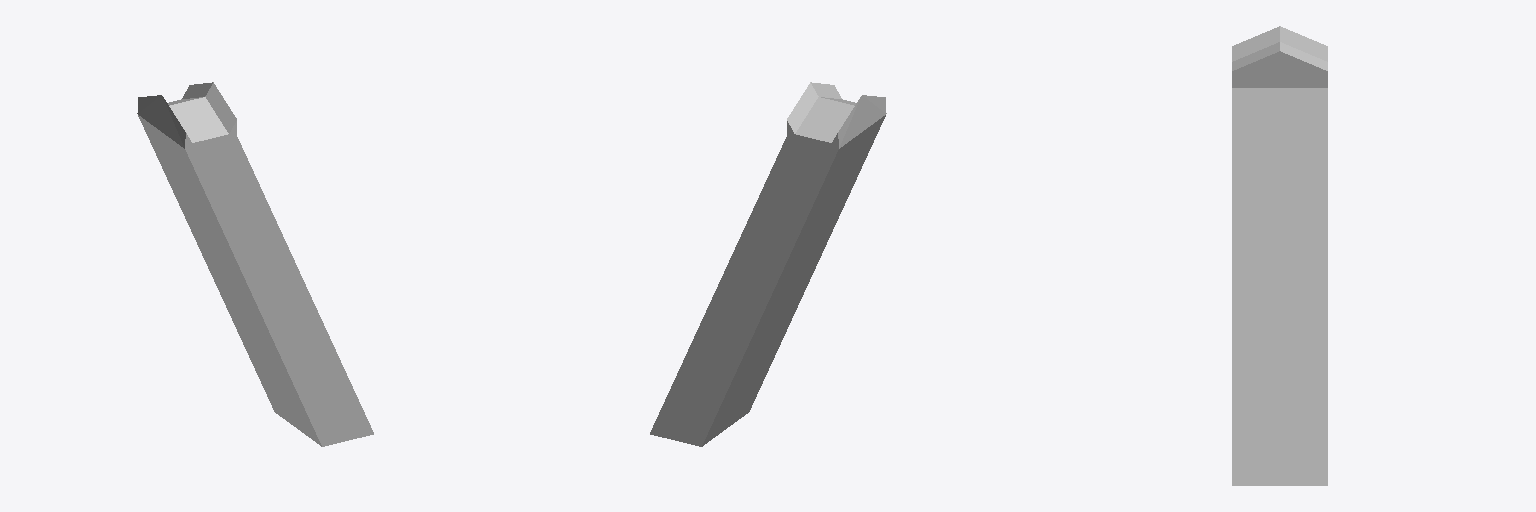
The model's file is HeadPhoneStand.obj.
3 renders of one model, left to right at view 1: azimuth 30°, elevation 25°; view 2: azimuth 150°, elevation 25°; view 3: azimuth 270°, elevation 25°, orthographic.
Visible parts, largest first — view 1: pCube46; view 2: pCube46; view 3: pCube46.
Boxes of the visible parts, x1,y1,x2,y2 form: pCube46: [137, 82, 373, 446]; pCube46: [650, 82, 886, 446]; pCube46: [1232, 26, 1327, 485].
Size of the model in its own units: 230 by 427 by 100.